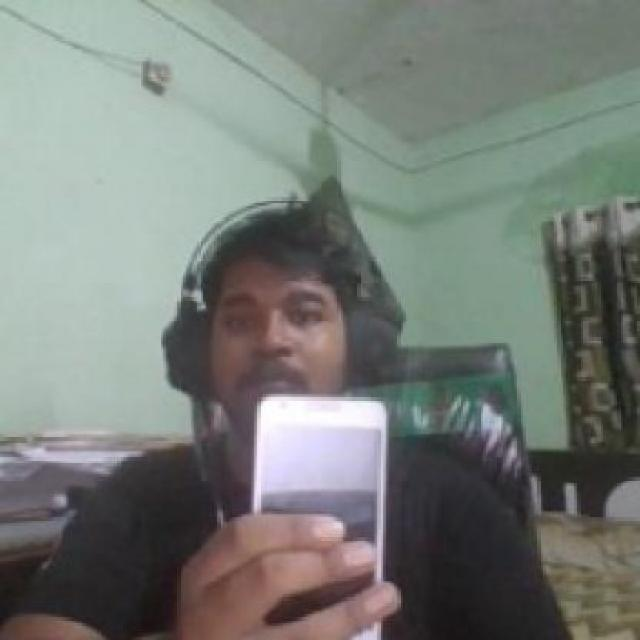Phone: (254, 393, 388, 637)
